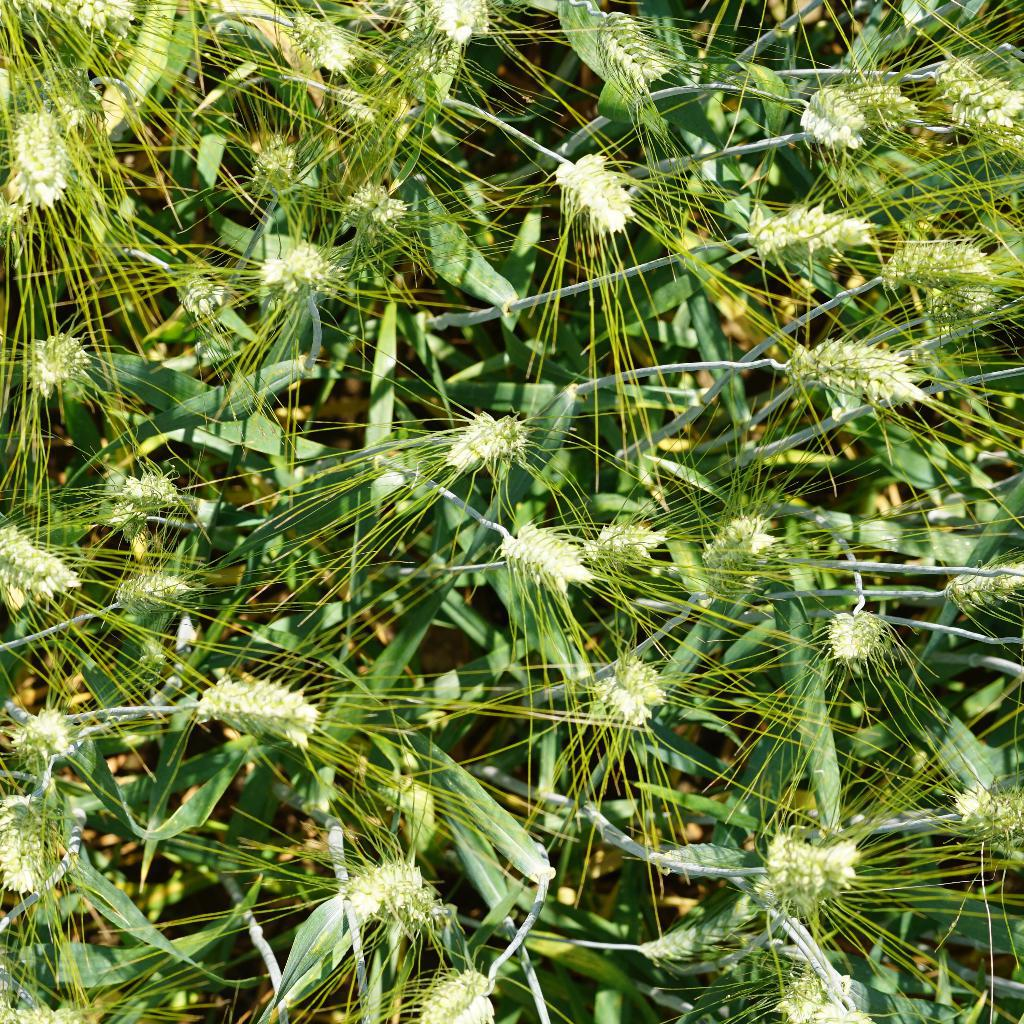0-0: (619, 890, 766, 974), (576, 0, 692, 98), (778, 337, 923, 415), (729, 197, 892, 265), (193, 668, 329, 746), (751, 817, 870, 903), (931, 49, 1024, 144), (550, 144, 649, 232), (0, 778, 67, 907), (3, 104, 90, 202), (73, 557, 190, 627), (697, 508, 791, 593), (408, 944, 507, 1024), (340, 832, 430, 920), (490, 511, 591, 589), (445, 392, 534, 477), (844, 70, 927, 153), (0, 523, 73, 615), (589, 642, 669, 720), (879, 239, 1001, 290), (17, 325, 104, 396), (6, 712, 88, 787), (276, 0, 359, 74), (576, 504, 665, 572), (328, 186, 415, 254), (230, 130, 307, 206), (770, 948, 847, 1024), (249, 246, 339, 309), (94, 464, 185, 526), (385, 26, 465, 90), (914, 276, 1012, 328), (798, 74, 863, 152), (950, 778, 1024, 845), (313, 77, 385, 145), (825, 597, 893, 669), (944, 544, 1024, 601), (410, 0, 504, 47), (165, 271, 231, 328)
